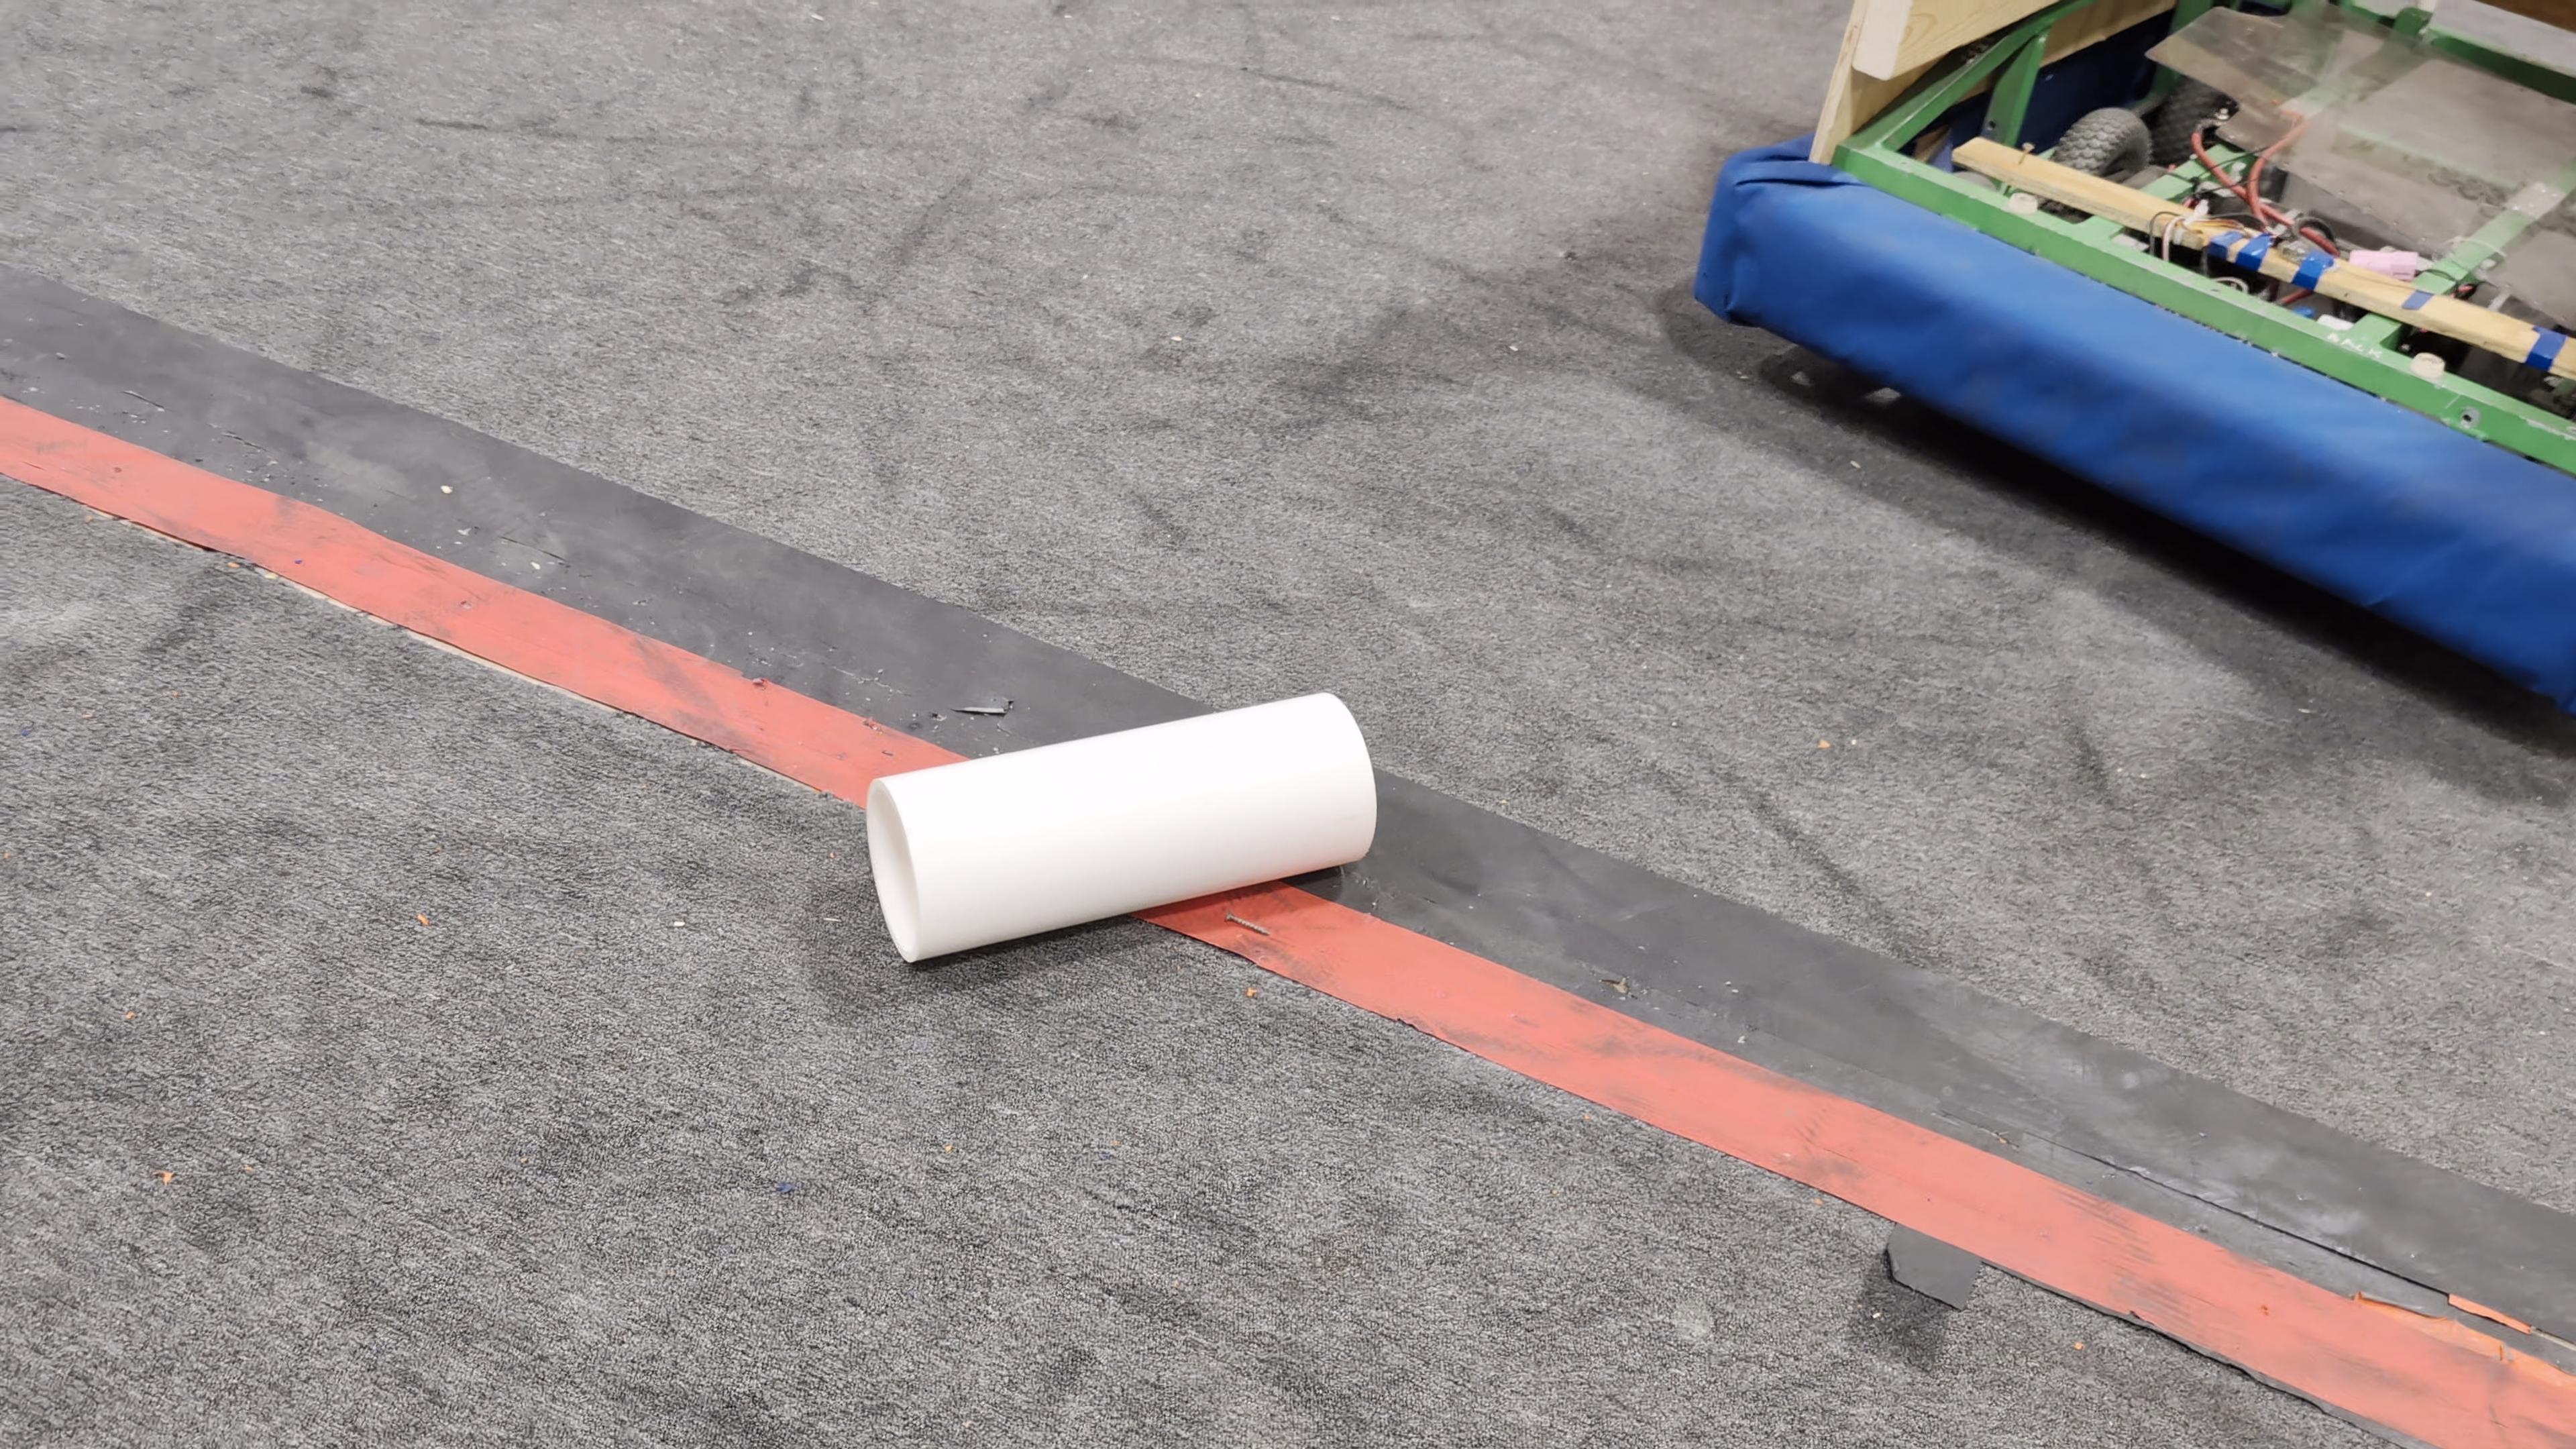coral: (860, 686, 1382, 962)
